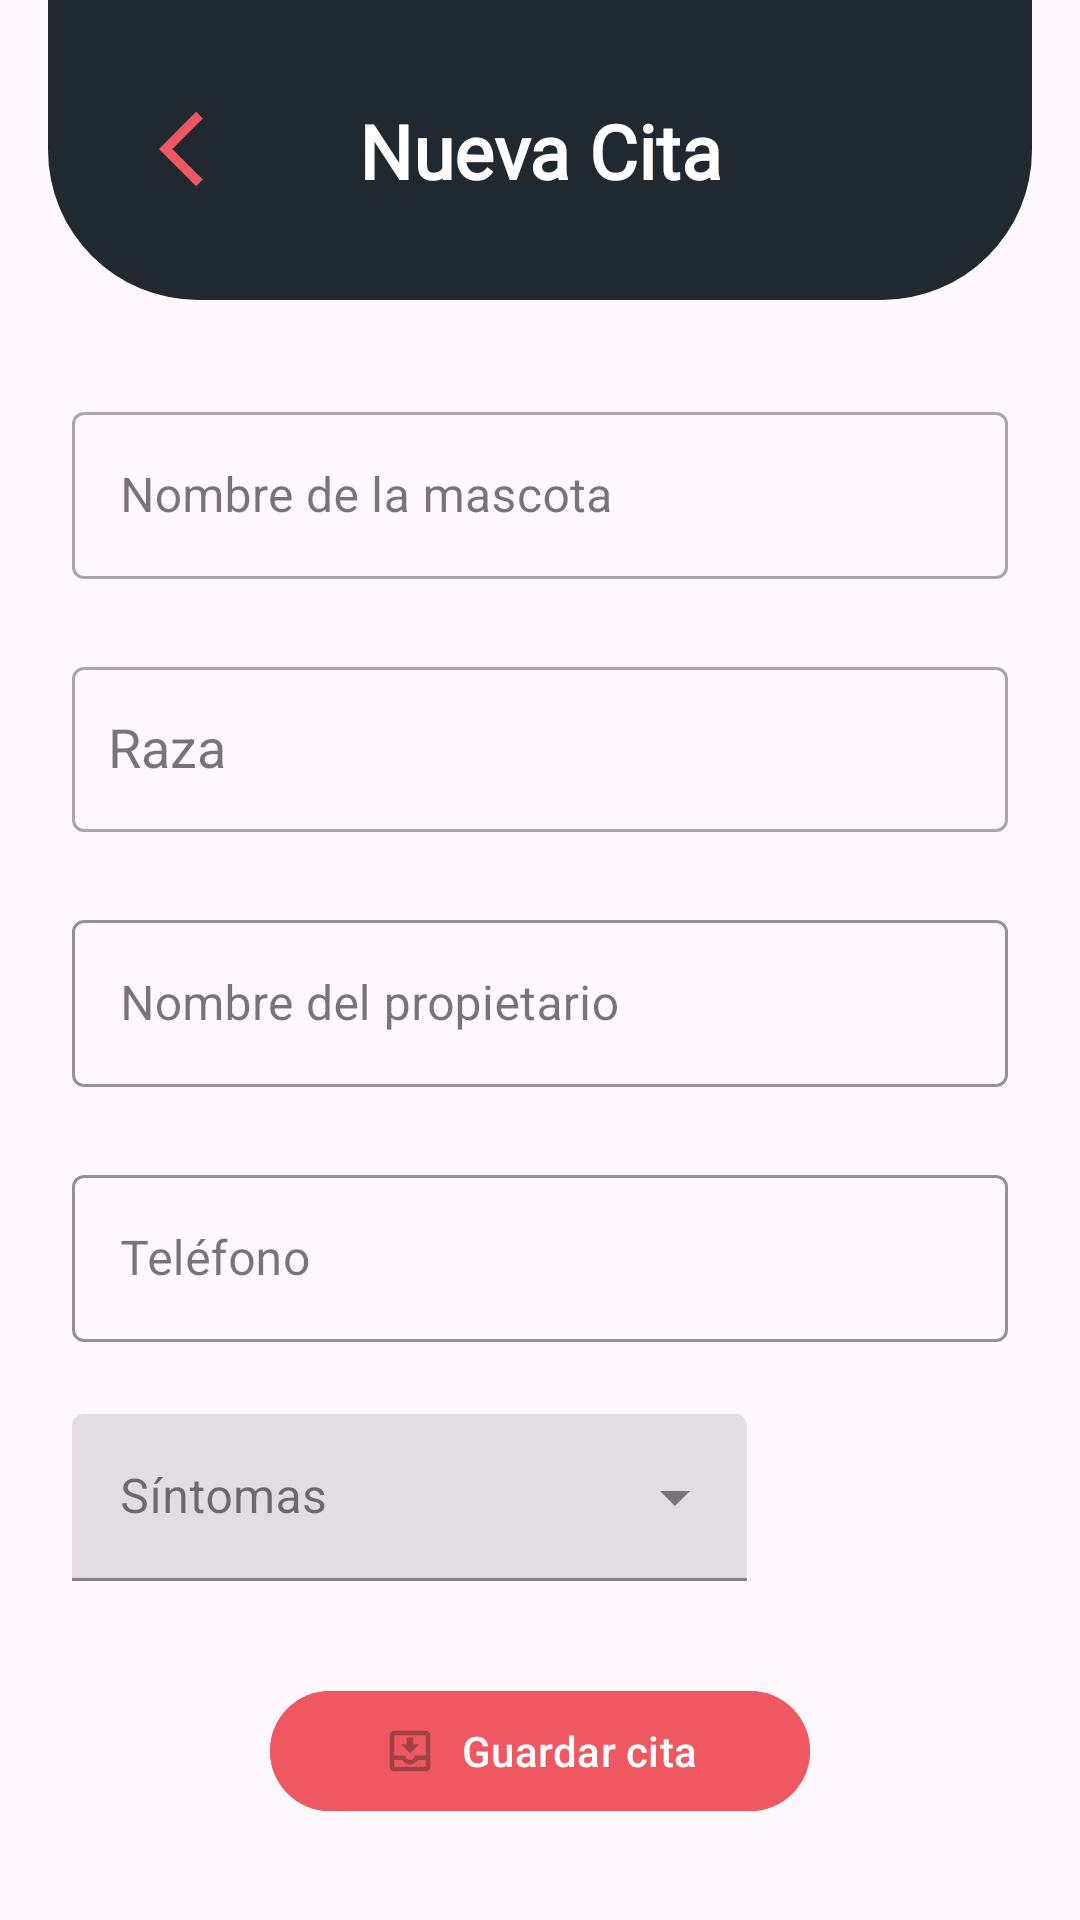

Icon bounding boxes for this 1080px×1920px phone screenshot, format (x1, y1, x2, y2):
Volver: (159, 112, 203, 186)
